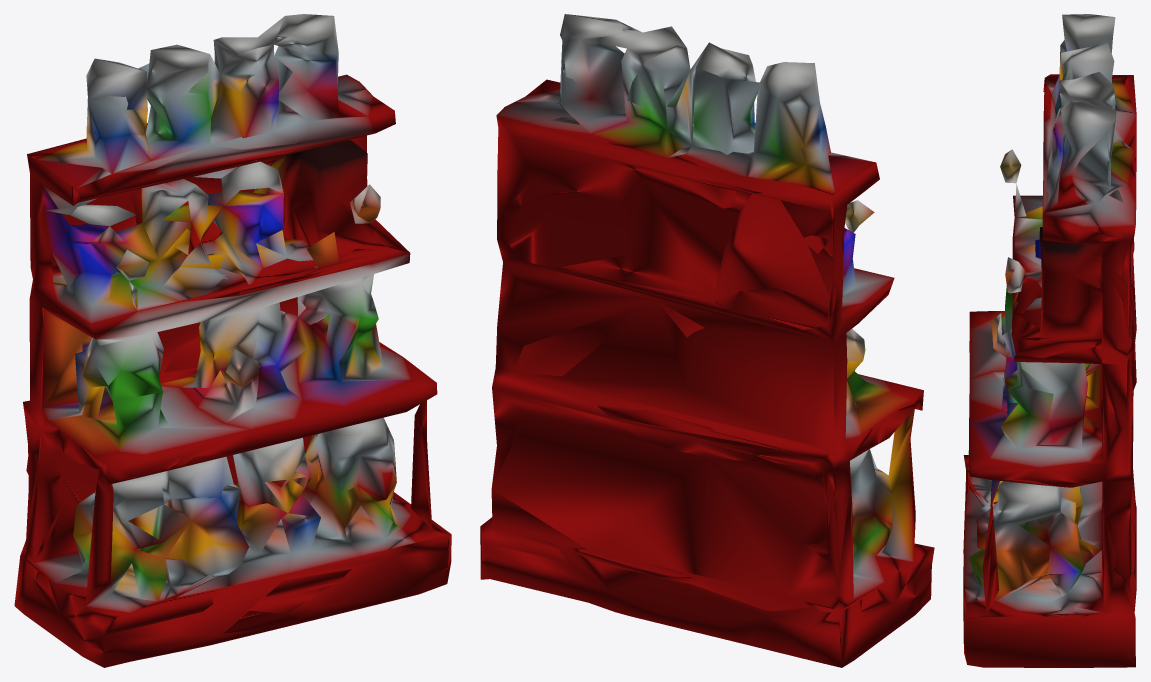
Rendered from gen3d-candy-display-lod0.glb.
The picture shows the model from 3 angles, left to right: view 1: azimuth 30°, elevation 25°; view 2: azimuth 150°, elevation 25°; view 3: azimuth 270°, elevation 25°; orthographic projection. The views are drawn at different scales.
Visible parts, largest first — view 1: part_0; view 2: part_0; view 3: part_0.
Boxes of the visible parts, x1=… form: part_0: x1=14, y1=14, x2=451, y2=667; part_0: x1=480, y1=14, x2=934, y2=667; part_0: x1=963, y1=14, x2=1136, y2=667.
Bounding box in the file's own units: 0.6788 × 0.9999 × 0.3021.
